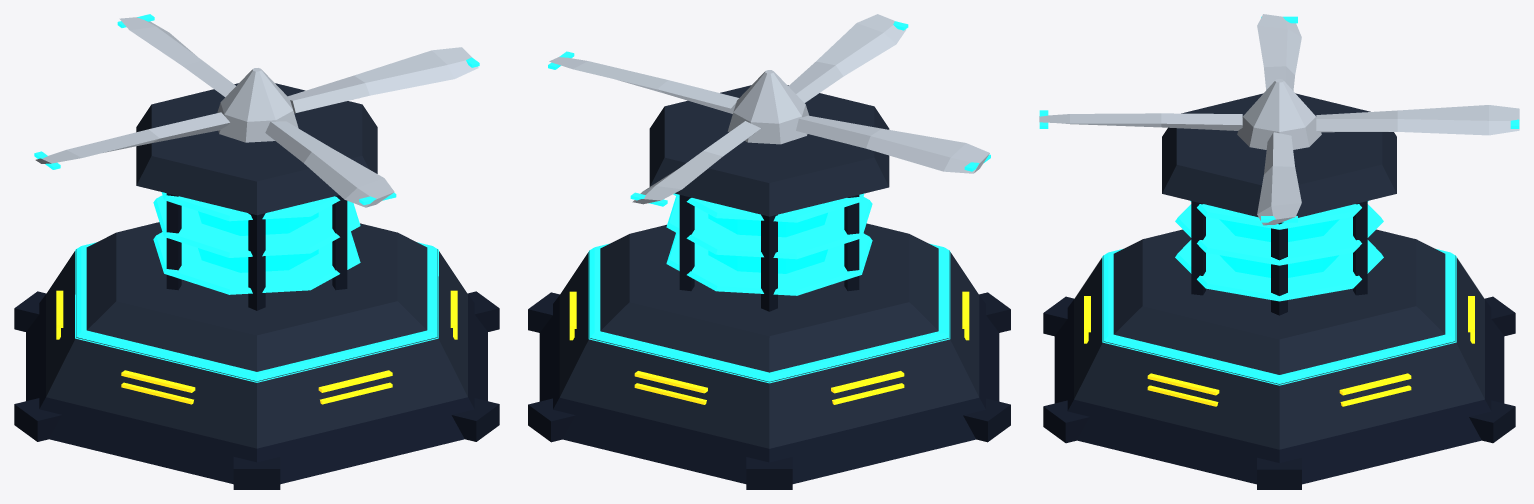
Rendered from aeroblade_station.glb.
3 renders of one model, left to right at view 1: azimuth 30°, elevation 25°; view 2: azimuth 150°, elevation 25°; view 3: azimuth 270°, elevation 25°, orthographic. The views are drawn at different scales.
Visible parts, largest first — view 1: Aero_Radiator_Hull, Aero_Reactor_Deck, Aero_Chassis_Base, Blades_Rotor, Aero_Turbine_Collar, Aero_Base_LEDRing, Aero_ContainmentRing_24, Aero_ContainmentRing_31, Aero_Plasma_Core, Aero_ContainmentRing_38, Aero_Containment_Pylon_4, Aero_StabilizerFoot_4 (+8 smaller); view 2: Aero_Radiator_Hull, Aero_Reactor_Deck, Aero_Chassis_Base, Blades_Rotor, Aero_Turbine_Collar, Aero_Base_LEDRing, Aero_ContainmentRing_31, Aero_ContainmentRing_24, Aero_Plasma_Core, Aero_ContainmentRing_38, Aero_Containment_Pylon_2, Aero_StabilizerFoot_2 (+8 smaller); view 3: Aero_Radiator_Hull, Aero_Reactor_Deck, Aero_Chassis_Base, Blades_Rotor, Aero_Turbine_Collar, Aero_Base_LEDRing, Aero_ContainmentRing_31, Aero_ContainmentRing_24, Aero_Plasma_Core, Aero_ContainmentRing_38, Aero_StabilizerFoot_0, Aero_StabilizerFoot_1 (+8 smaller).
Boxes of the visible parts, bbox=[...] form: Aero_Radiator_Hull: bbox=[46, 249, 467, 448]; Aero_Reactor_Deck: bbox=[86, 222, 427, 371]; Aero_Chassis_Base: bbox=[26, 294, 487, 484]; Blades_Rotor: bbox=[34, 14, 479, 207]; Aero_Turbine_Collar: bbox=[136, 83, 377, 215]; Aero_Base_LEDRing: bbox=[75, 242, 438, 382]; Aero_ContainmentRing_24: bbox=[153, 231, 360, 294]; Aero_ContainmentRing_31: bbox=[153, 195, 360, 257]; Aero_Plasma_Core: bbox=[198, 211, 318, 272]; Aero_ContainmentRing_38: bbox=[161, 192, 340, 221]; Aero_Containment_Pylon_4: bbox=[248, 213, 265, 310]; Aero_StabilizerFoot_4: bbox=[233, 457, 280, 489]; Aero_Radiator_Hull: bbox=[559, 250, 979, 448]; Aero_Reactor_Deck: bbox=[600, 223, 938, 372]; Aero_Chassis_Base: bbox=[539, 295, 999, 483]; Blades_Rotor: bbox=[548, 14, 990, 206]; Aero_Turbine_Collar: bbox=[649, 85, 889, 216]; Aero_Base_LEDRing: bbox=[588, 243, 950, 383]; Aero_ContainmentRing_31: bbox=[666, 196, 872, 259]; Aero_ContainmentRing_24: bbox=[666, 233, 872, 295]; Aero_Plasma_Core: bbox=[708, 212, 827, 273]; Aero_ContainmentRing_38: bbox=[673, 193, 864, 222]; Aero_Containment_Pylon_2: bbox=[761, 214, 777, 311]; Aero_StabilizerFoot_2: bbox=[746, 457, 792, 489]; Aero_Radiator_Hull: bbox=[1074, 255, 1484, 449]; Aero_Reactor_Deck: bbox=[1113, 229, 1445, 374]; Aero_Chassis_Base: bbox=[1054, 300, 1504, 484]; Blades_Rotor: bbox=[1039, 14, 1519, 225]; Aero_Turbine_Collar: bbox=[1162, 93, 1396, 217]; Aero_Base_LEDRing: bbox=[1102, 248, 1456, 385]; Aero_ContainmentRing_31: bbox=[1175, 204, 1383, 265]; Aero_ContainmentRing_24: bbox=[1175, 240, 1383, 301]; Aero_Plasma_Core: bbox=[1219, 219, 1339, 277]; Aero_ContainmentRing_38: bbox=[1190, 200, 1368, 229]; Aero_StabilizerFoot_0: bbox=[1257, 457, 1301, 489]; Aero_StabilizerFoot_1: bbox=[1469, 400, 1515, 443].
Size of the model in its own units: 9.2 by 5.85 by 8.5.
